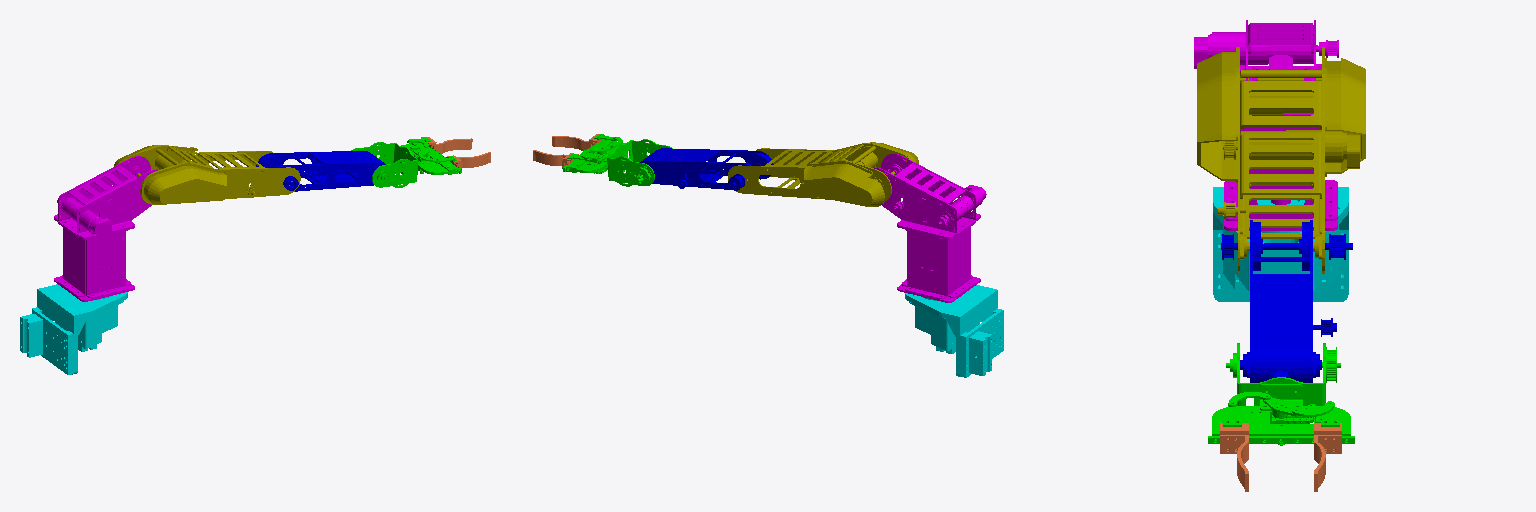
robot.urdf — XM_URDF_1:
<robot
  name="XM_URDF_1">
  <link
    name="base_link">
    <inertial>
      <origin
        xyz="-0.10071 -0.00041489 0.13133"
        rpy="0 0 0" />
      <mass
        value="10.808" />
      <inertia
        ixx="1.1371"
        ixy="-0.00019052"
        ixz="-0.10141"
        iyy="1.1327"
        iyz="0.007404"
        izz="0.17324" />
    </inertial>
    <visual>
      <origin
        xyz="0 0 0"
        rpy="0 0 0" />
      <geometry>
        <mesh
          filename="package://xm_urdf/meshes/urdf_handsfree/base_link.STL" />
      </geometry>
      <material
        name="">
        <color
          rgba="0.75294 0.75294 0.75294 1" />
      </material>
    </visual>
    <collision>
      <origin
        xyz="0 0 0"
        rpy="0 0 0" />
      <geometry>
        <mesh
          filename="package://xm_urdf/meshes/urdf_handsfree/base_link.STL" />
      </geometry>
    </collision>
  </link>
  <link
    name="rise_Link">
    <inertial>
      <origin
        xyz="0.084717 0.0041345 0.05205"
        rpy="0 0 0" />
      <mass
        value="3.6024" />
      <inertia
        ixx="0.014326"
        ixy="-0.0012264"
        ixz="0.0056775"
        iyy="0.018337"
        iyz="-0.00077359"
        izz="0.016582" />
    </inertial>
    <visual>
      <origin
        xyz="0 0 0"
        rpy="0 0 0" />
      <geometry>
        <mesh
          filename="package://xm_urdf/meshes/urdf_handsfree/rise_Link.STL" />
      </geometry>
      <material
        name="">
        <color
          rgba="0 0.91765 0.92941 1" />
      </material>
    </visual>
    <collision>
      <origin
        xyz="0 0 0"
        rpy="0 0 0" />
      <geometry>
        <mesh
          filename="package://xm_urdf/meshes/urdf_handsfree/rise_Link.STL" />
      </geometry>
    </collision>
  </link>
  <joint
    name="Joint_rise"
    type="prismatic">
    <origin
      xyz="-0.114 0.0020625 0.20424"
      rpy="0 0 0" />
    <parent
      link="base_link" />
    <child
      link="rise_Link" />
    <axis
      xyz="0 0 1" />
    <limit
      lower="0.45"
      upper="0.05"
      effort="0"
      velocity="0" />
  </joint>
  <link
    name="waist_Link">
    <inertial>
      <origin
        xyz="0.0092419 -0.0022418 0.14741"
        rpy="0 0 0" />
      <mass
        value="1.8008" />
      <inertia
        ixx="0.014004"
        ixy="0.00033712"
        ixz="0.0018376"
        iyy="0.015725"
        iyz="-0.00025256"
        izz="0.0079483" />
    </inertial>
    <visual>
      <origin
        xyz="0 0 0"
        rpy="0 0 0" />
      <geometry>
        <mesh
          filename="package://xm_urdf/meshes/urdf_handsfree/waist_Link.STL" />
      </geometry>
      <material
        name="">
        <color
          rgba="0.89804 0 0.92941 1" />
      </material>
    </visual>
    <collision>
      <origin
        xyz="0 0 0"
        rpy="0 0 0" />
      <geometry>
        <mesh
          filename="package://xm_urdf/meshes/urdf_handsfree/waist_Link.STL" />
      </geometry>
    </collision>
  </link>
  <joint
    name="Joint_waist"
    type="revolute">
    <origin
      xyz="0.136 0 0.095"
      rpy="0 0 0" />
    <parent
      link="rise_Link" />
    <child
      link="waist_Link" />
    <axis
      xyz="0 0 -1" />
    <limit
      lower="1.57"
      upper="-1.57"
      effort="0"
      velocity="0" />
  </joint>
  <link
    name="big_arm_Link">
    <inertial>
      <origin
        xyz="0.12332 -0.0022107 -0.017158"
        rpy="0 0 0" />
      <mass
        value="1.3617" />
      <inertia
        ixx="0.0051567"
        ixy="3.0384E-05"
        ixz="-0.0026611"
        iyy="0.014201"
        iyz="4.1513E-05"
        izz="0.016719" />
    </inertial>
    <visual>
      <origin
        xyz="0 0 0"
        rpy="0 0 0" />
      <geometry>
        <mesh
          filename="package://xm_urdf/meshes/urdf_handsfree/big_arm_Link.STL" />
      </geometry>
      <material
        name="">
        <color
          rgba="0.64706 0.61961 0 1" />
      </material>
    </visual>
    <collision>
      <origin
        xyz="0 0 0"
        rpy="0 0 0" />
      <geometry>
        <mesh
          filename="package://xm_urdf/meshes/urdf_handsfree/big_arm_Link.STL" />
      </geometry>
    </collision>
  </link>
  <joint
    name="Joint_big_arm"
    type="revolute">
    <origin
      xyz="0.13033 0 0.25227"
      rpy="0 0 0" />
    <parent
      link="waist_Link" />
    <child
      link="big_arm_Link" />
    <axis
      xyz="0 -1 0" />
    <limit
      lower="1.6"
      upper="-1.57"
      effort="0"
      velocity="0" />
  </joint>
  <link
    name="fore_arm_Link">
    <inertial>
      <origin
        xyz="0.083036 0.0029244 -0.015661"
        rpy="0 0 0" />
      <mass
        value="0.629" />
      <inertia
        ixx="0.0012197"
        ixy="7.7146E-05"
        ixz="-0.0010444"
        iyy="0.0061527"
        iyz="-2.897E-05"
        izz="0.0066139" />
    </inertial>
    <visual>
      <origin
        xyz="0 0 0"
        rpy="0 0 0" />
      <geometry>
        <mesh
          filename="package://xm_urdf/meshes/urdf_handsfree/fore_arm_Link.STL" />
      </geometry>
      <material
        name="">
        <color
          rgba="0 0 0.92941 1" />
      </material>
    </visual>
    <collision>
      <origin
        xyz="0 0 0"
        rpy="0 0 0" />
      <geometry>
        <mesh
          filename="package://xm_urdf/meshes/urdf_handsfree/fore_arm_Link.STL" />
      </geometry>
    </collision>
  </link>
  <joint
    name="Joint_fore_arm"
    type="revolute">
    <origin
      xyz="0.34403 0.0005 -0.064357"
      rpy="0 0 0" />
    <parent
      link="big_arm_Link" />
    <child
      link="fore_arm_Link" />
    <axis
      xyz="0 1 0" />
    <limit
      lower="1.57"
      upper="-1.57"
      effort="0"
      velocity="0" />
  </joint>
  <link
    name="wrist_Link">
    <inertial>
      <origin
        xyz="0.096236 0.0018117 -0.0081414"
        rpy="0 0 0" />
      <mass
        value="0.55688" />
      <inertia
        ixx="0.0010745"
        ixy="9.8099E-05"
        ixz="-0.00016146"
        iyy="0.0021568"
        iyz="-1.6698E-05"
        izz="0.0030374" />
    </inertial>
    <visual>
      <origin
        xyz="0 0 0"
        rpy="0 0 0" />
      <geometry>
        <mesh
          filename="package://xm_urdf/meshes/urdf_handsfree/wrist_Link.STL" />
      </geometry>
      <material
        name="">
        <color
          rgba="0 0.91765 0 1" />
      </material>
    </visual>
    <collision>
      <origin
        xyz="0 0 0"
        rpy="0 0 0" />
      <geometry>
        <mesh
          filename="package://xm_urdf/meshes/urdf_handsfree/wrist_Link.STL" />
      </geometry>
    </collision>
  </link>
  <joint
    name="Joint_wrist"
    type="revolute">
    <origin
      xyz="0.24592 0 -0.044986"
      rpy="0 0 0" />
    <parent
      link="fore_arm_Link" />
    <child
      link="wrist_Link" />
    <axis
      xyz="0 -1 0" />
    <limit
      lower="1.57"
      upper="-1.57"
      effort="0"
      velocity="0" />
  </joint>
  <link
    name="left_finger_Link">
    <inertial>
      <origin
        xyz="0.020083 0.012659 -0.011661"
        rpy="0 0 0" />
      <mass
        value="0.024649" />
      <inertia
        ixx="4.4162E-06"
        ixy="-3.3075E-06"
        ixz="-3.8914E-06"
        iyy="2.8171E-05"
        iyz="5.6818E-07"
        izz="2.7945E-05" />
    </inertial>
    <visual>
      <origin
        xyz="0 0 0"
        rpy="0 0 0" />
      <geometry>
        <mesh
          filename="package://xm_urdf/meshes/urdf_handsfree/left_finger_Link.STL" />
      </geometry>
      <material
        name="">
        <color
          rgba="0.9 0.5 0.3 1" />
      </material>
    </visual>
    <collision>
      <origin
        xyz="0 0 0"
        rpy="0 0 0" />
      <geometry>
        <mesh
          filename="package://xm_urdf/meshes/urdf_handsfree/left_finger_Link.STL" />
      </geometry>
    </collision>
  </link>
  <joint
    name="Joint_left_finger"
    type="prismatic">
    <origin
      xyz="0.19337 0.039912 -0.0037013"
      rpy="0 0 0" />
    <parent
      link="wrist_Link" />
    <child
      link="left_finger_Link" />
    <axis
      xyz="0 1 0" />
    <limit
      lower="0.05"
      upper="0"
      effort="0"
      velocity="0" />
  </joint>
  <link
    name="right_finger_Link">
    <inertial>
      <origin
        xyz="0.020083 -0.012659 -0.011662"
        rpy="0 0 0" />
      <mass
        value="0.024649" />
      <inertia
        ixx="4.4162E-06"
        ixy="3.3074E-06"
        ixz="-3.8913E-06"
        iyy="2.8171E-05"
        iyz="-5.6842E-07"
        izz="2.7945E-05" />
    </inertial>
    <visual>
      <origin
        xyz="0 0 0"
        rpy="0 0 0" />
      <geometry>
        <mesh
          filename="package://xm_urdf/meshes/urdf_handsfree/right_finger_Link.STL" />
      </geometry>
      <material
        name="">
        <color
          rgba="0.9 0.5 0.3 1" />
      </material>
    </visual>
    <collision>
      <origin
        xyz="0 0 0"
        rpy="0 0 0" />
      <geometry>
        <mesh
          filename="package://xm_urdf/meshes/urdf_handsfree/right_finger_Link.STL" />
      </geometry>
    </collision>
  </link>
  <joint
    name="Joint_right"
    type="prismatic">
    <origin
      xyz="0.19337 -0.039912 -0.0037013"
      rpy="0 0 0" />
    <parent
      link="wrist_Link" />
    <child
      link="right_finger_Link" />
    <axis
      xyz="0 1 0" />
    <limit
      lower="0"
      upper="-0.05"
      effort="0"
      velocity="0" />
  </joint>
</robot>

--- Facts derived from the render (not from the file) ---
Views: 3 orthographic renders of the robot side by side, from view 1: azimuth 30°, elevation 25°; view 2: azimuth 150°, elevation 25°; view 3: azimuth 270°, elevation 25°.
Model XM_URDF_1 with 8 links and 7 joints (4 revolute, 3 prismatic), rooted at base_link, posed joints at zero except 1 at the middle of their limits (Joint_rise = 0.25).
Visible links, largest first — view 1: waist_Link, big_arm_Link, rise_Link, fore_arm_Link, wrist_Link; view 2: waist_Link, big_arm_Link, rise_Link, fore_arm_Link, wrist_Link; view 3: big_arm_Link, fore_arm_Link, waist_Link, wrist_Link, rise_Link, right_finger_Link, left_finger_Link.
Link boxes in pixels (<box>): waist_Link: <box>54,156,157,301</box>; big_arm_Link: <box>114,145,300,204</box>; rise_Link: <box>20,284,127,374</box>; fore_arm_Link: <box>256,151,385,191</box>; wrist_Link: <box>351,137,461,187</box>; waist_Link: <box>873,153,986,302</box>; big_arm_Link: <box>728,142,918,206</box>; rise_Link: <box>905,285,1003,377</box>; fore_arm_Link: <box>640,148,773,190</box>; wrist_Link: <box>562,134,672,186</box>; big_arm_Link: <box>1197,47,1365,273</box>; fore_arm_Link: <box>1221,220,1352,382</box>; waist_Link: <box>1194,20,1338,230</box>; wrist_Link: <box>1208,343,1354,445</box>; rise_Link: <box>1213,187,1348,301</box>; right_finger_Link: <box>1220,423,1248,491</box>; left_finger_Link: <box>1314,423,1341,491</box>.
Bounding box of the posed robot: 1.16 × 0.2095 × 0.4473 m (x, y, z).
7 mesh visuals loaded from 8 distinct referenced files (7 binary STL); not drawn: 1 (reference not matched to a file when rendering).